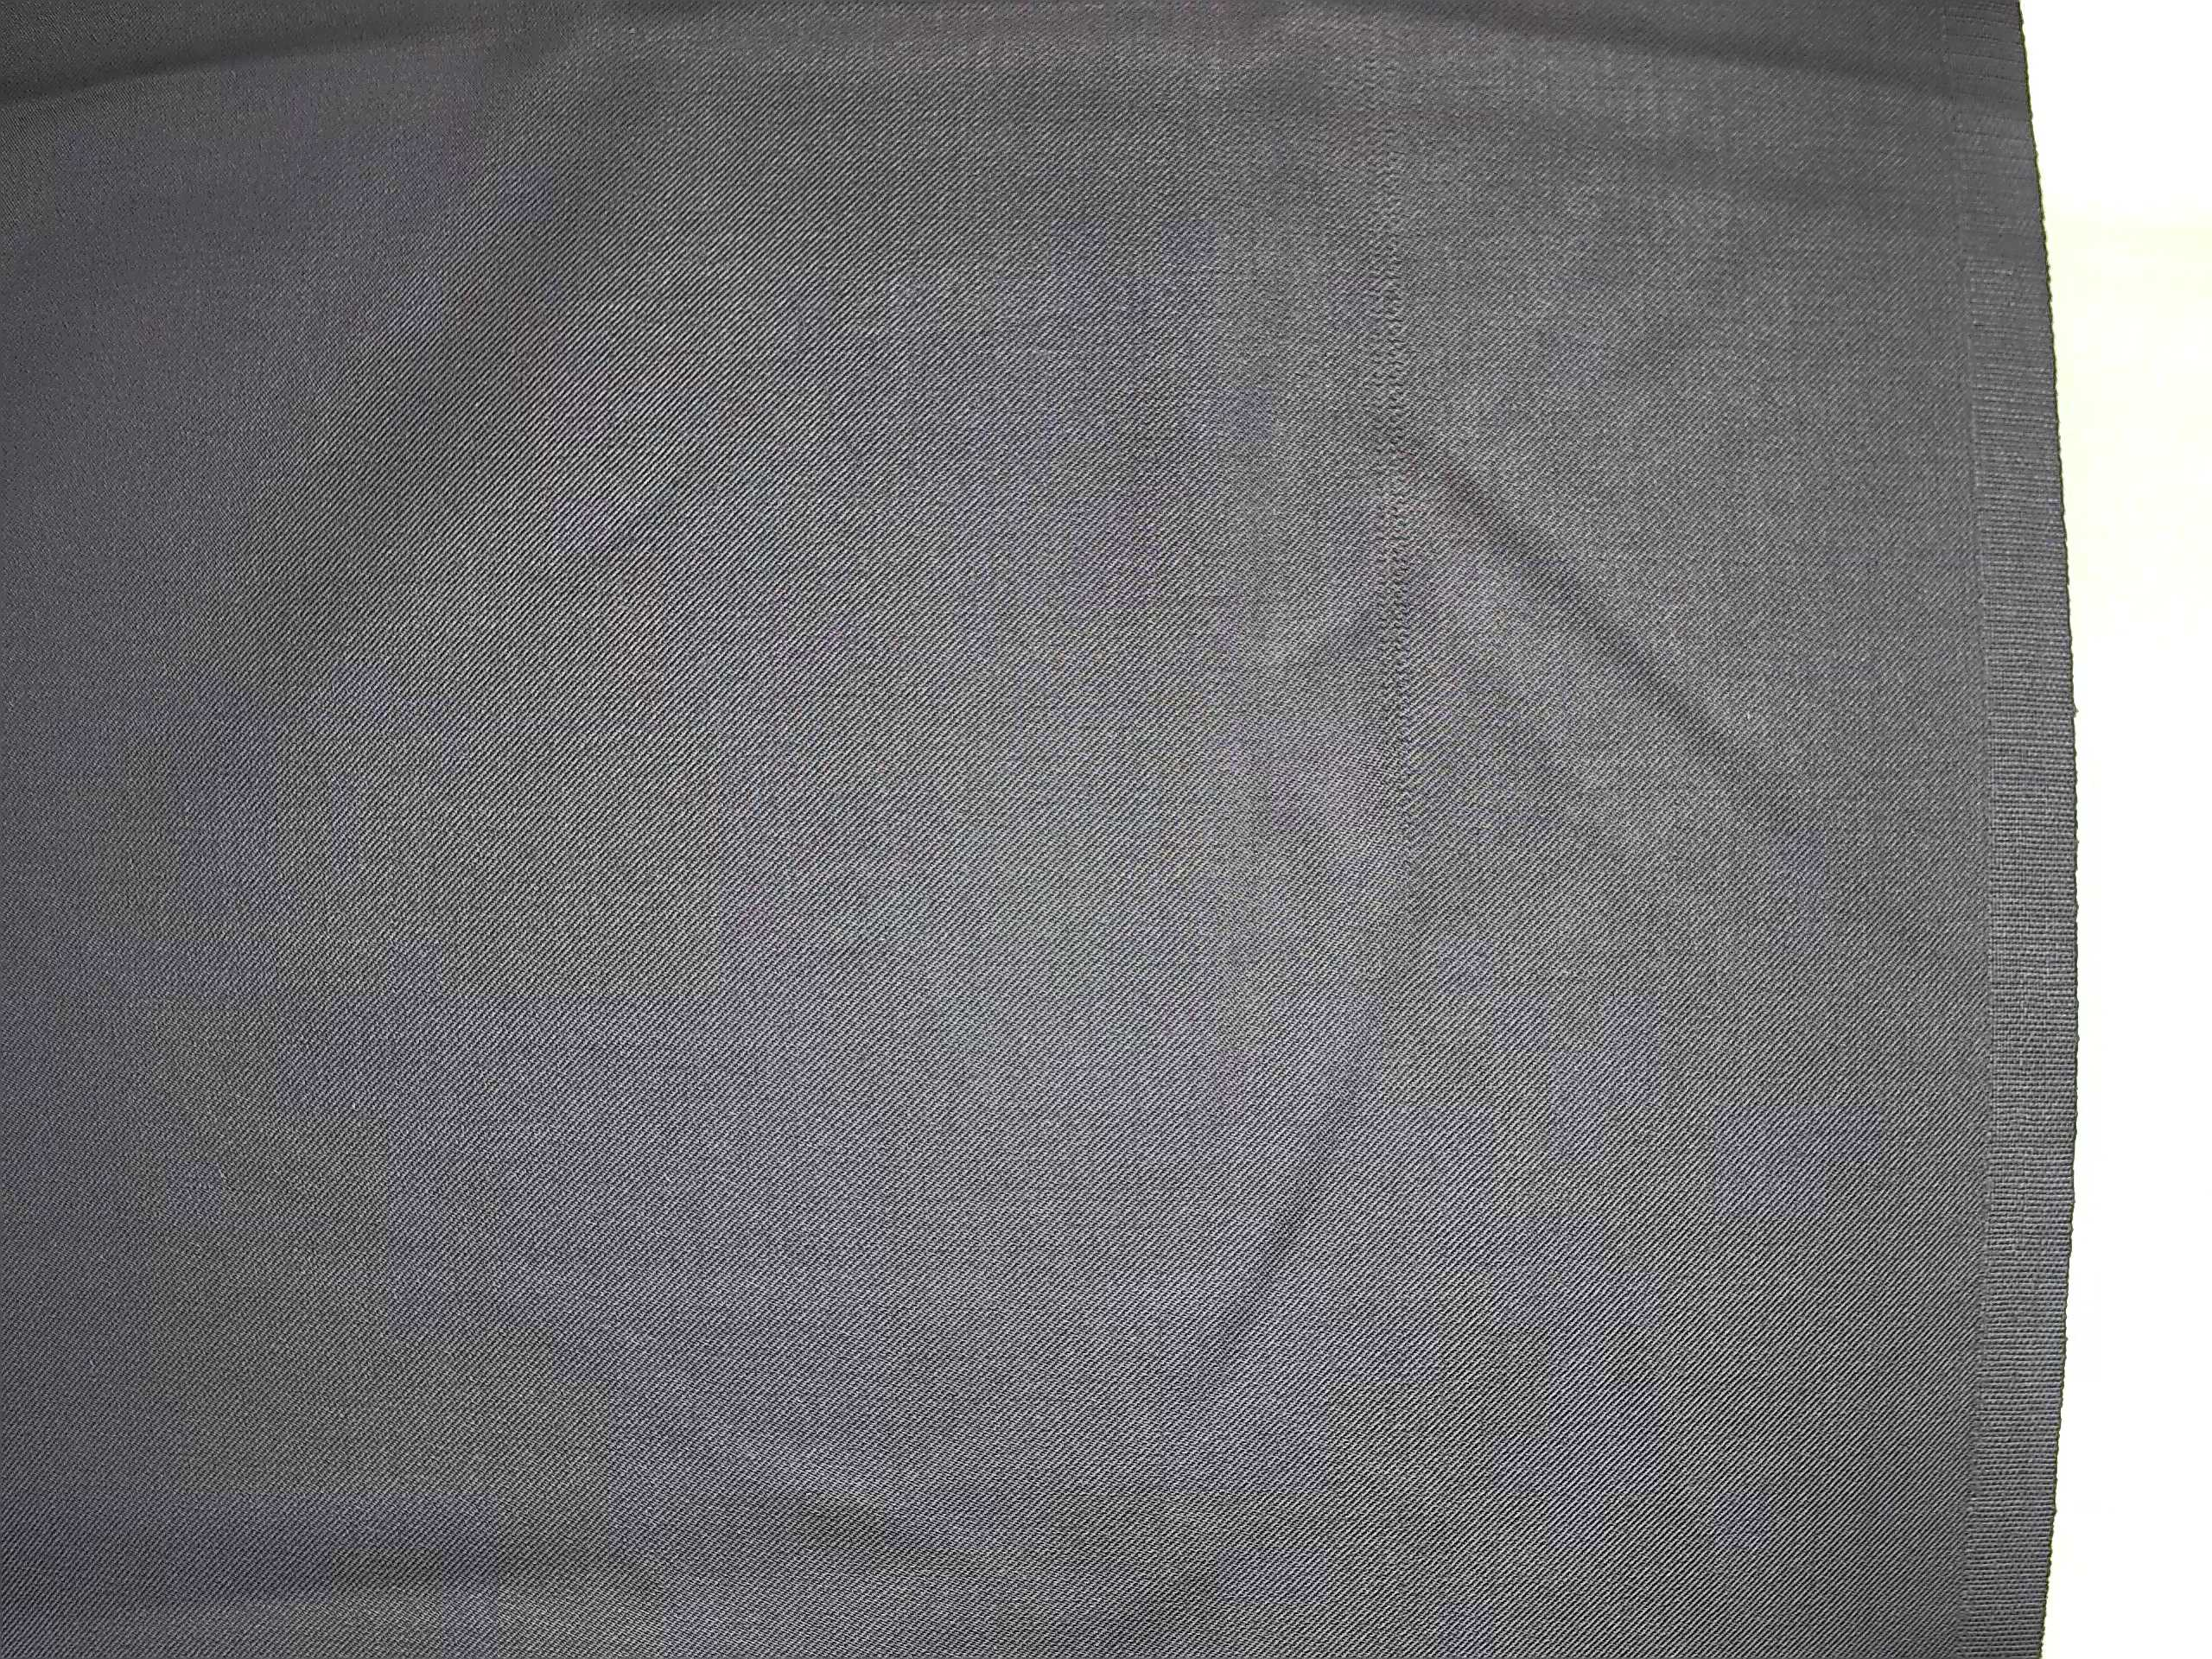hanging-warp: (1346, 14, 1432, 911)
